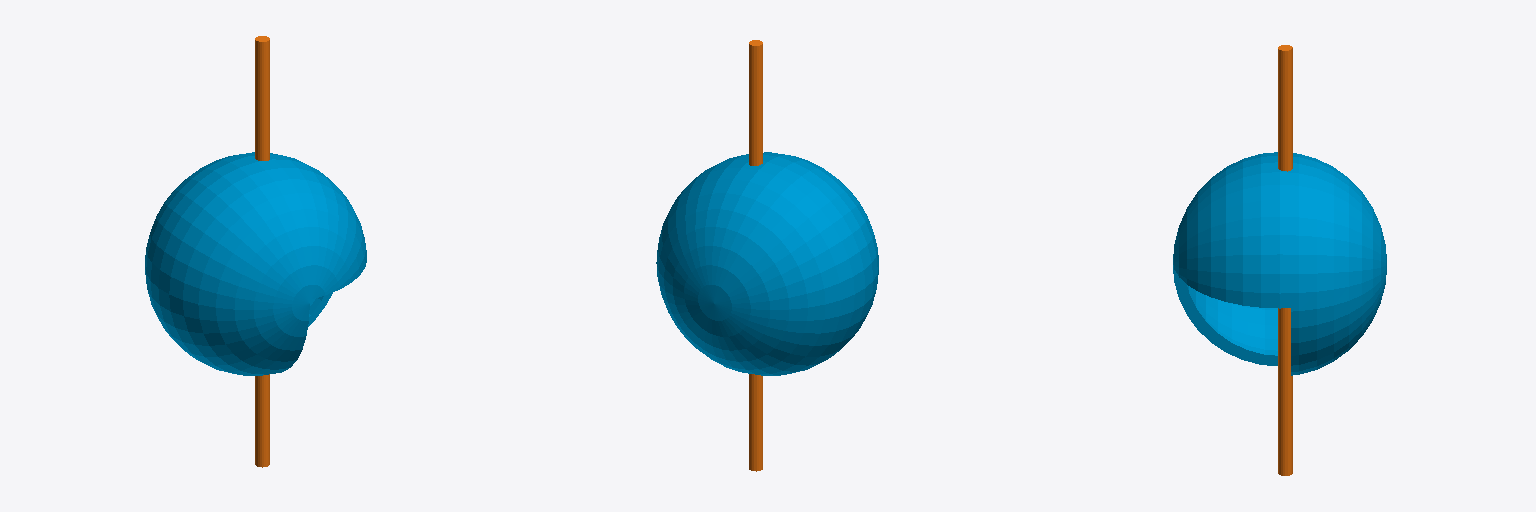
File: Shell.obj
3 renders of one model, left to right at view 1: azimuth 30°, elevation 25°; view 2: azimuth 150°, elevation 25°; view 3: azimuth 270°, elevation 25°, orthographic.
Visible parts, largest first — view 1: obj_0; view 2: obj_0; view 3: obj_0.
Part boxes in pixels (bbox=[...]): obj_0: bbox=[145, 36, 366, 467]; obj_0: bbox=[656, 40, 878, 471]; obj_0: bbox=[1173, 45, 1386, 475].
Size of the model in its own units: 61.91 by 129 by 59.